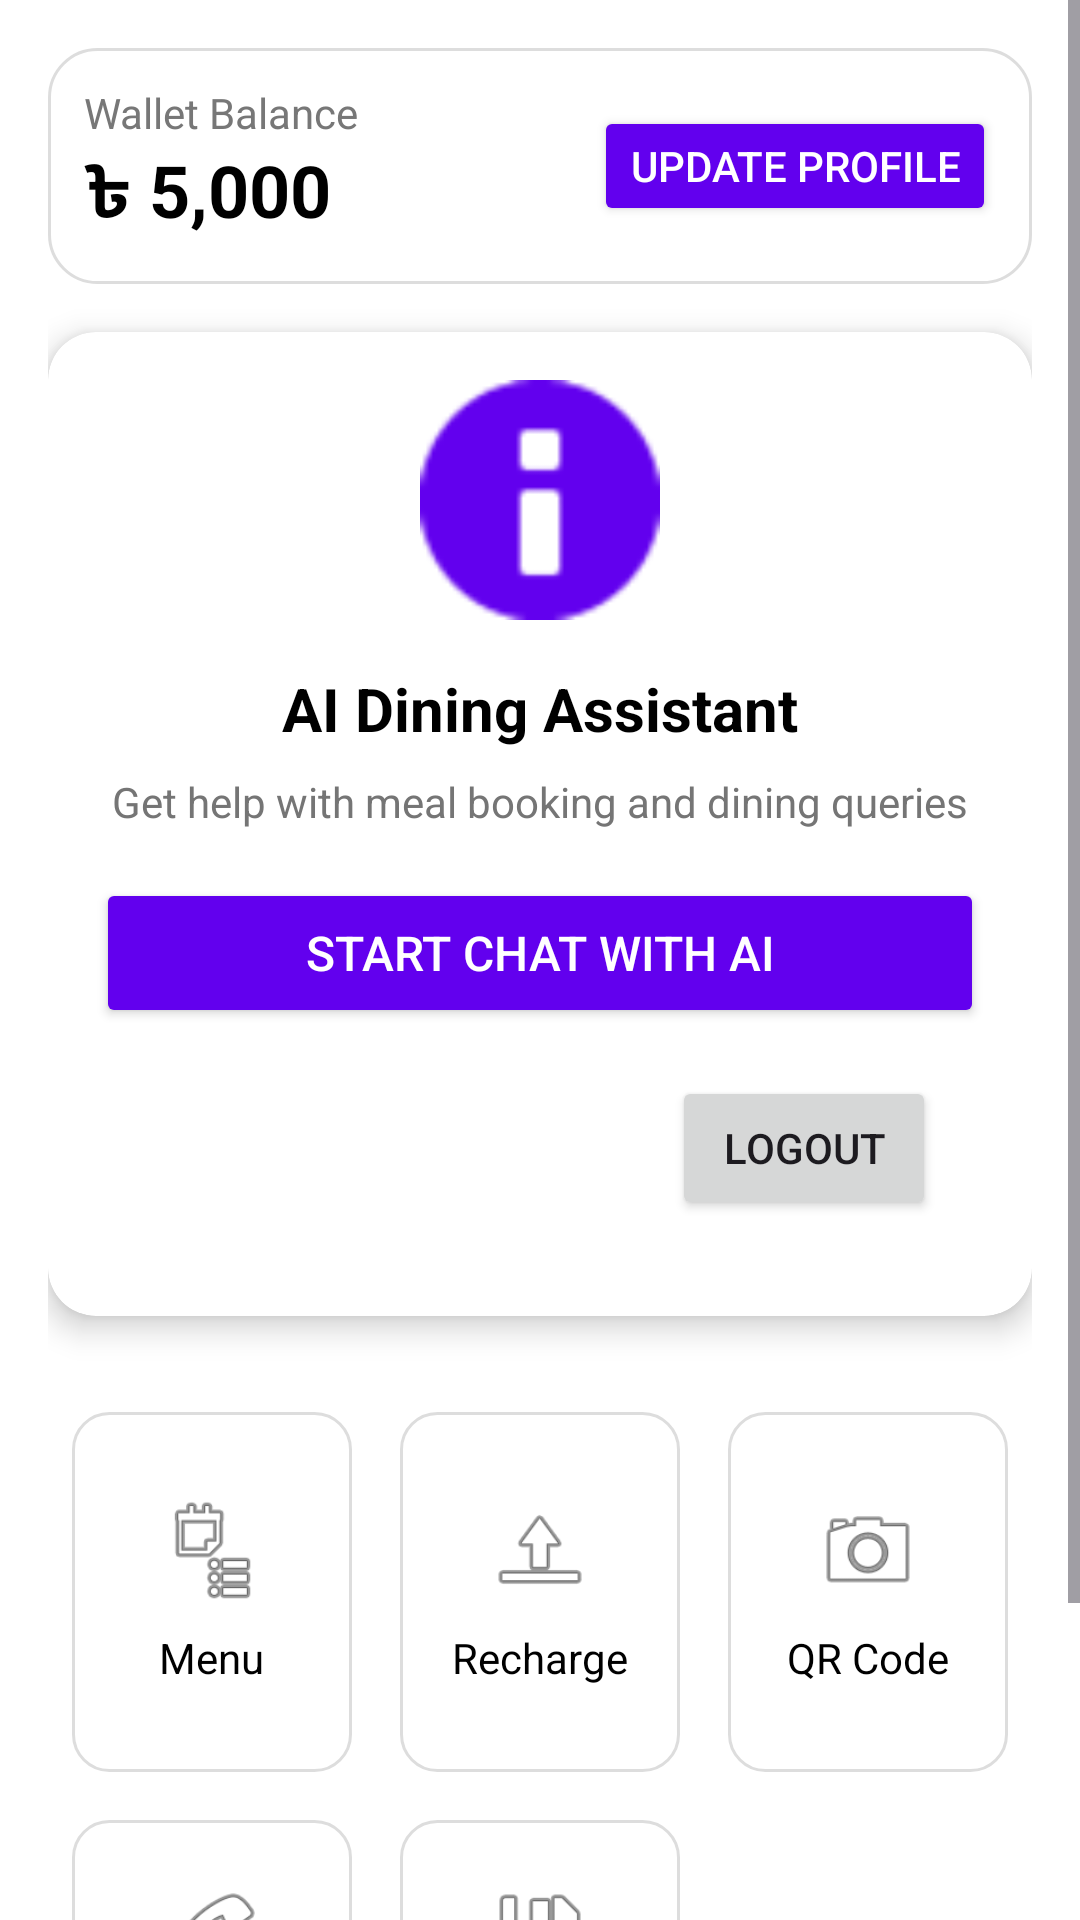

Locate icon controls on the screen. Image size 1080x1920, boxes as detection(x1, y1, x2, y2).
info: detection(420, 380, 660, 620)
